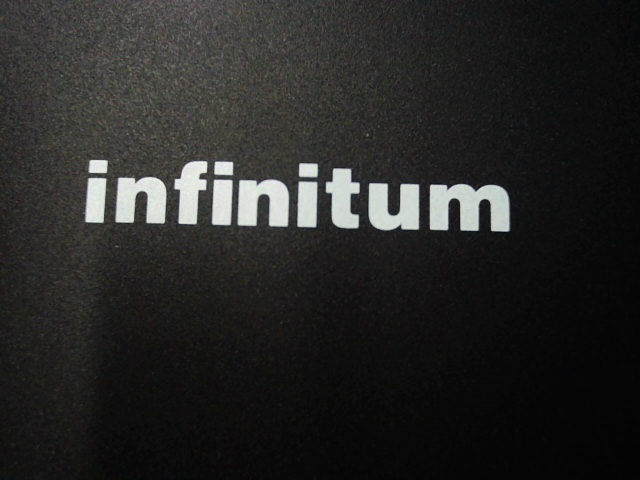BK_infinitum: (75, 151, 516, 245)
